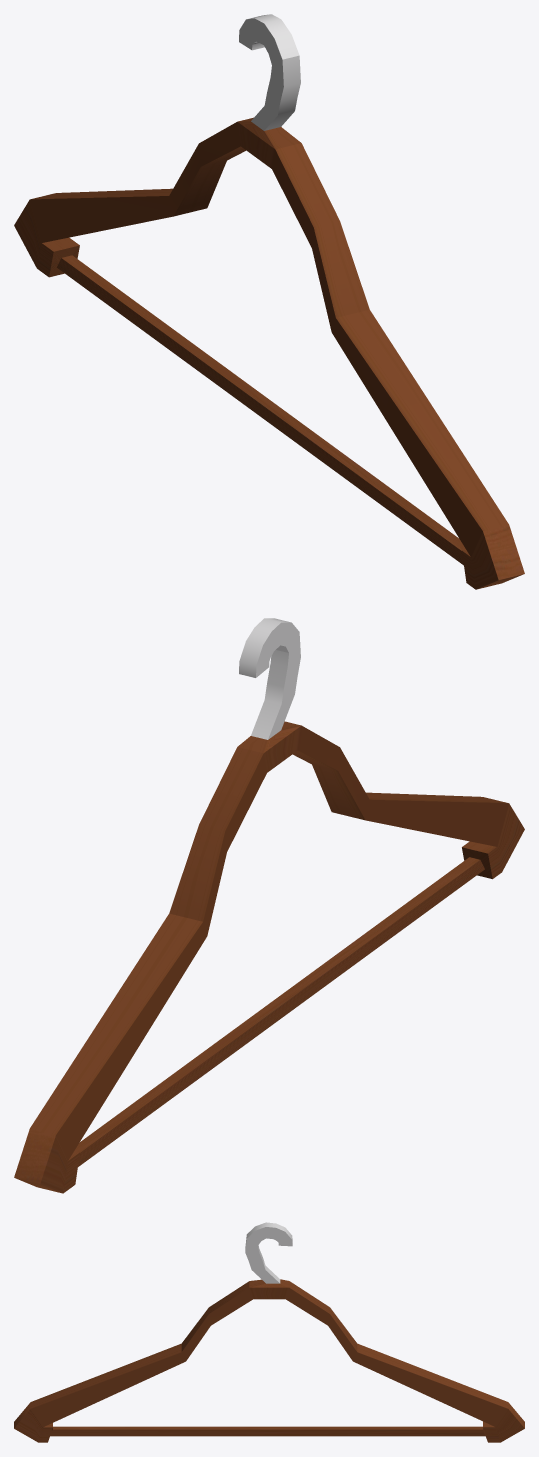
File: Clothes_Hangar.fbx
3 renders of one model, top to bottom at view 1: azimuth 30°, elevation 25°; view 2: azimuth 150°, elevation 25°; view 3: azimuth 270°, elevation 25°, orthographic. The views are drawn at different scales.
Visible parts, largest first — view 1: Clothes_Hanger; view 2: Clothes_Hanger; view 3: Clothes_Hanger.
Boxes of the visible parts, bbox=[...] form: Clothes_Hanger: bbox=[14, 14, 524, 589]; Clothes_Hanger: bbox=[14, 618, 524, 1193]; Clothes_Hanger: bbox=[14, 1222, 524, 1442].
Bounding box in the file's own units: 1.73 × 19.86 × 42.87.
